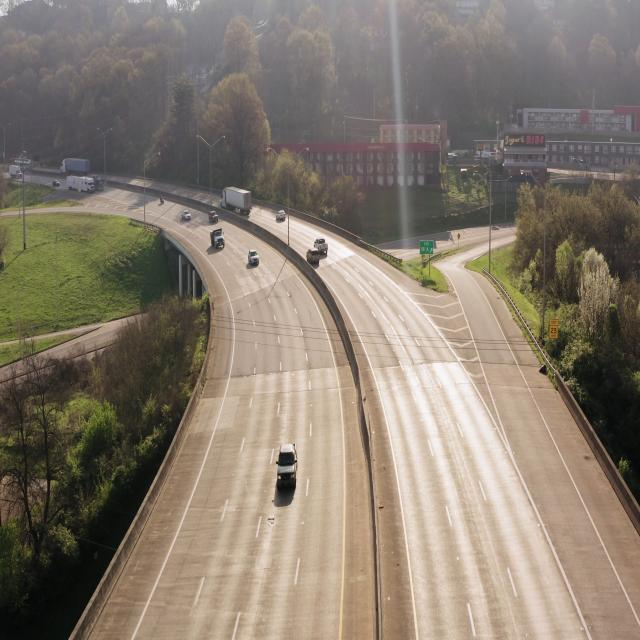Car: (276, 438, 300, 498), (220, 183, 253, 217), (210, 227, 227, 250), (314, 234, 329, 258), (306, 246, 321, 269), (247, 246, 260, 269), (276, 206, 288, 226)
